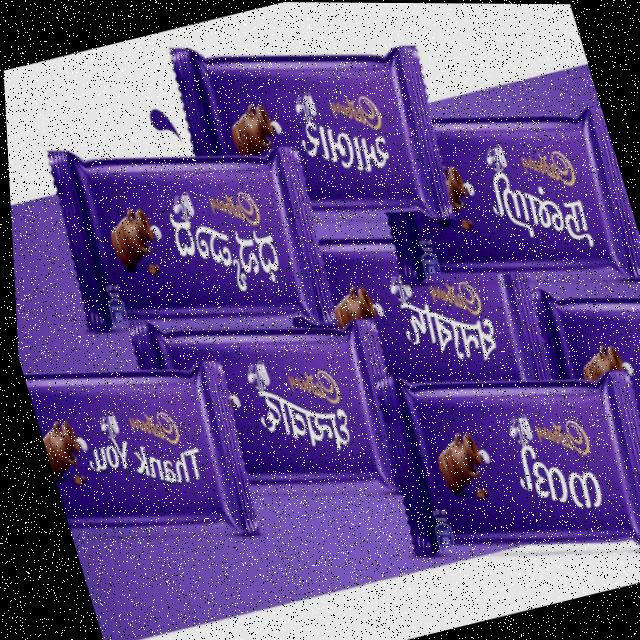cadbury: (352, 66, 640, 333), (166, 1, 456, 266), (117, 273, 407, 536), (36, 101, 340, 345), (364, 327, 640, 581), (17, 330, 260, 571)
